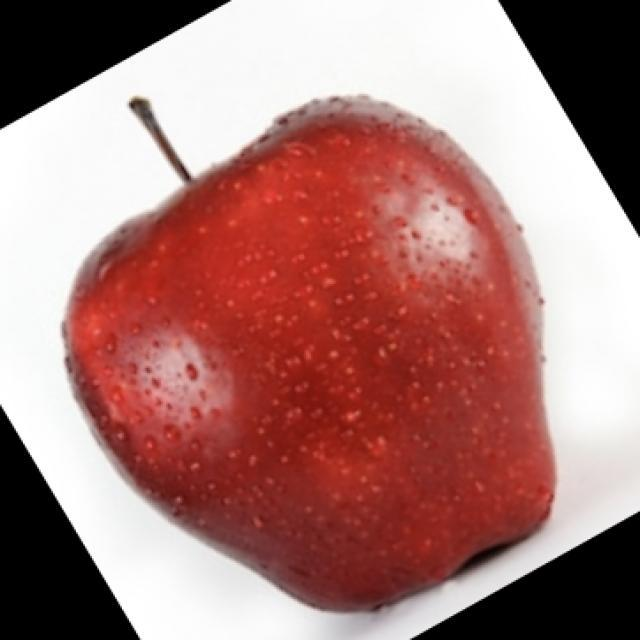Fresh Apple: (58, 90, 592, 627)
